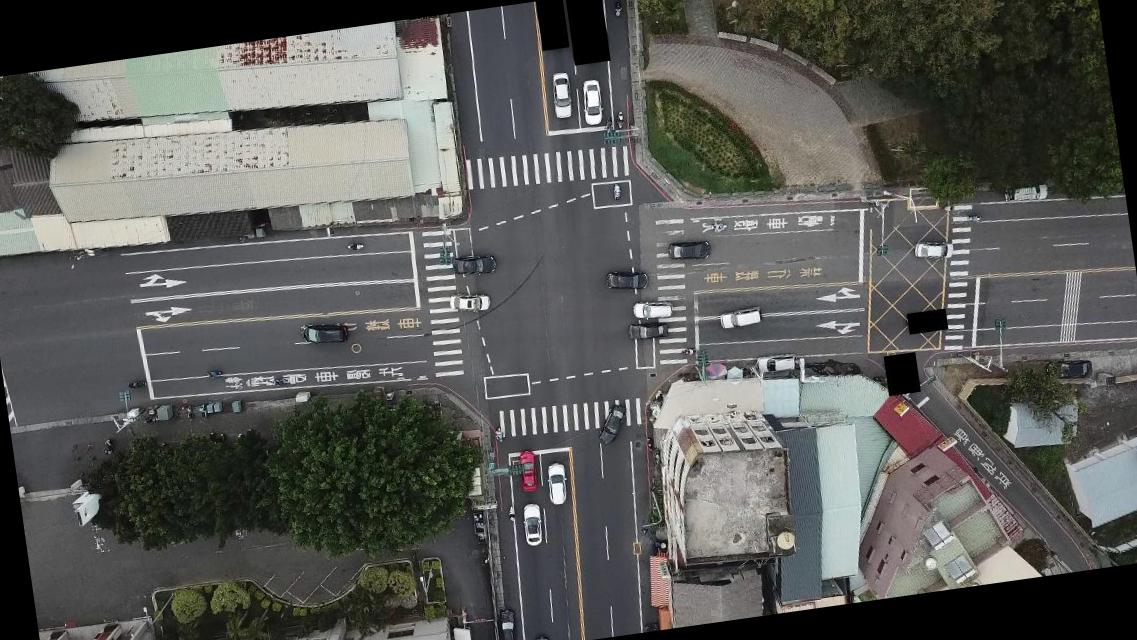vehicle: (594, 403, 630, 447), (577, 77, 606, 127), (548, 70, 576, 120), (300, 320, 349, 348), (604, 266, 650, 294), (452, 253, 496, 280), (1049, 356, 1094, 382), (448, 290, 492, 316), (544, 461, 570, 505), (521, 502, 545, 549), (516, 450, 541, 495), (666, 240, 712, 264), (718, 306, 764, 330), (1003, 180, 1048, 204), (630, 298, 673, 322), (913, 238, 954, 263), (627, 318, 668, 342), (756, 351, 797, 375), (495, 605, 520, 639)
